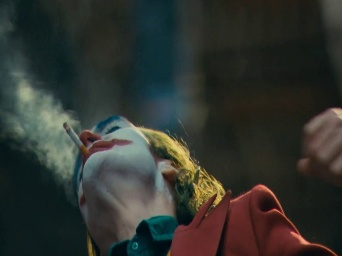smoke: (60, 122, 89, 154)
